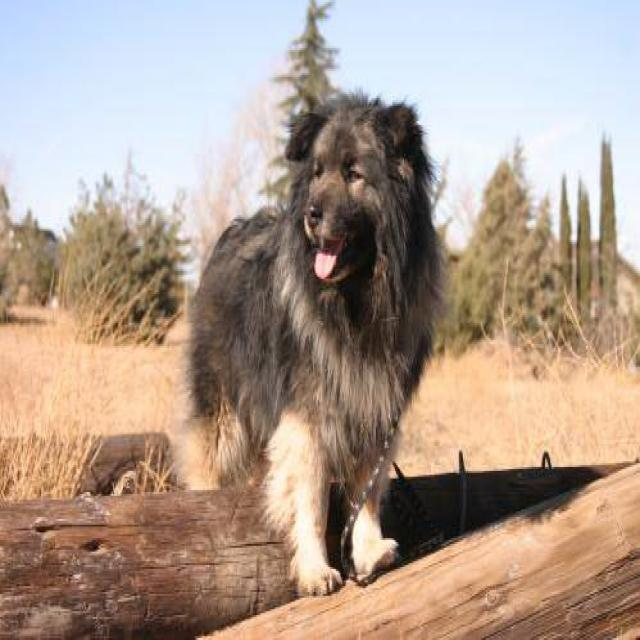dog: (170, 87, 449, 598)
